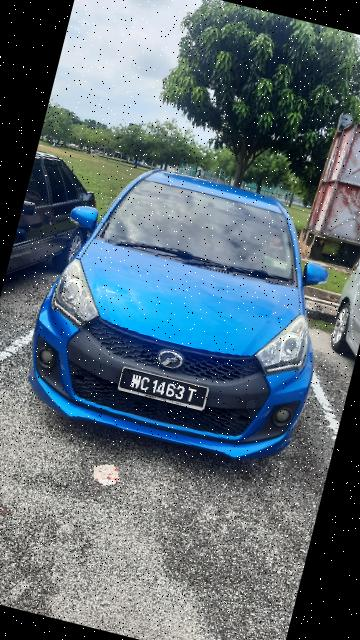License_Plate: (115, 363, 217, 420)
car: (5, 143, 358, 487)
